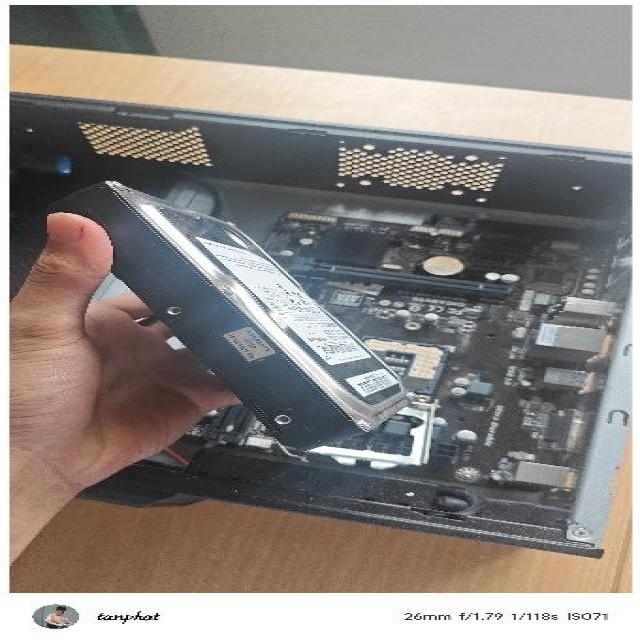DISK: (40, 174, 419, 452)
